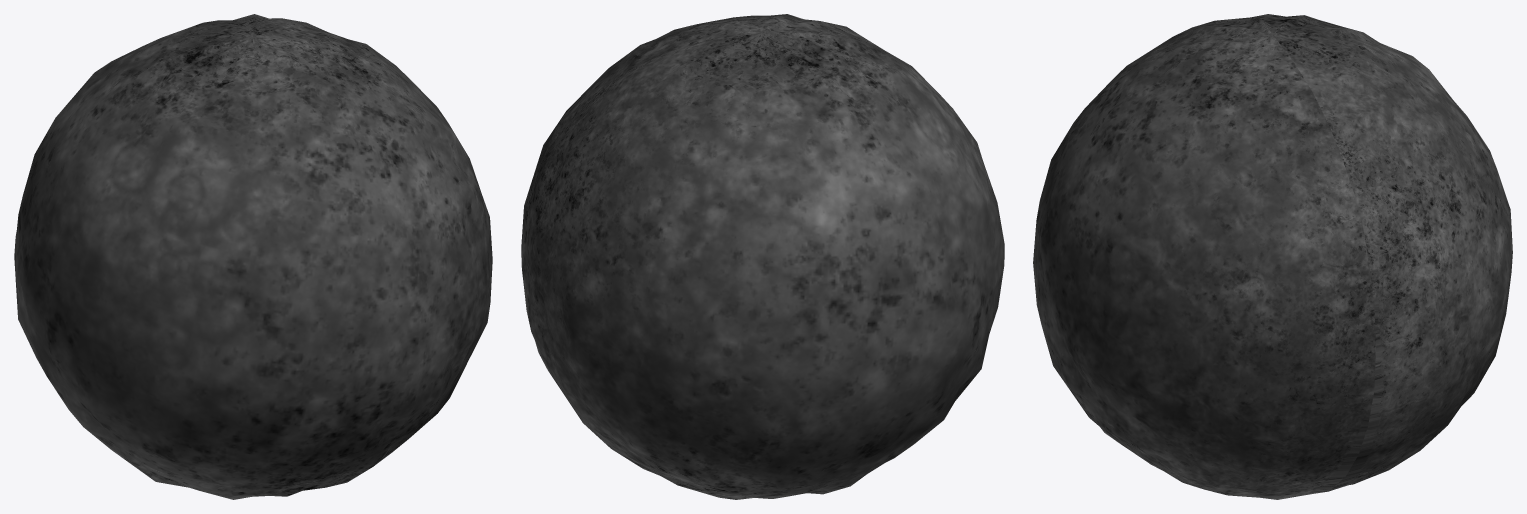
File: Moon.FBX
The picture shows the model from 3 angles, left to right: view 1: azimuth 30°, elevation 25°; view 2: azimuth 150°, elevation 25°; view 3: azimuth 270°, elevation 25°; orthographic projection.
Parts seen in each view (by area): view 1: moon; view 2: moon; view 3: moon.
Boxes of the visible parts, x1=… form: moon: x1=14, y1=14, x2=492, y2=499; moon: x1=521, y1=14, x2=1004, y2=499; moon: x1=1033, y1=14, x2=1512, y2=499.
Bounding box in the file's own units: 127 × 128 × 125.
Materials: 1 (1 with a texture image).
